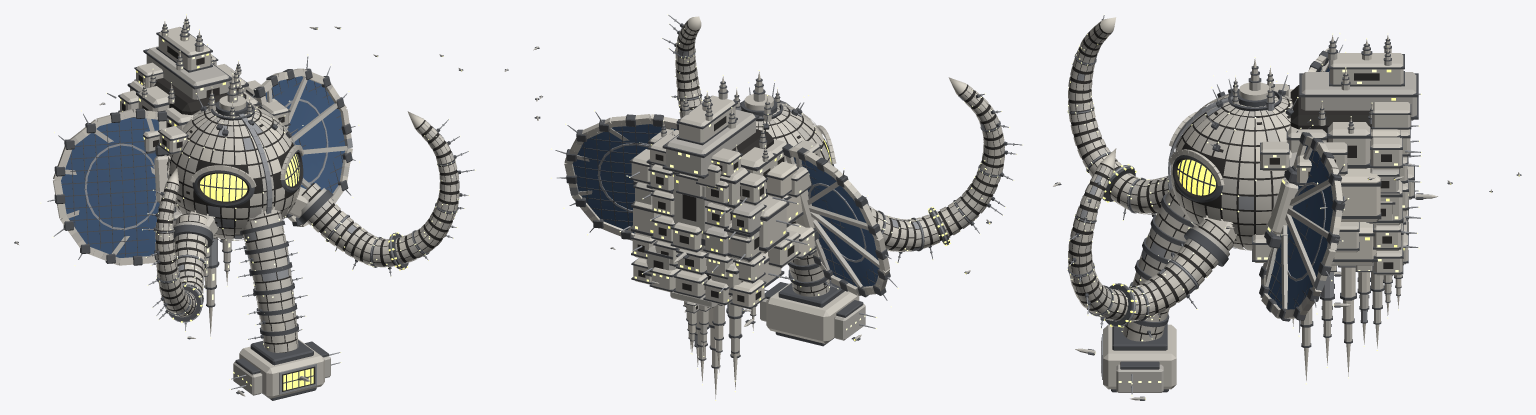
The picture shows the model from 3 angles, left to right: view 1: azimuth 30°, elevation 25°; view 2: azimuth 150°, elevation 25°; view 3: azimuth 270°, elevation 25°; orthographic projection. The views are drawn at different scales.
Parts seen in each view (by area): view 1: DC_ears, DC_head, DC_tusks, DC_body, DC_trunk; view 2: DC_body, DC_ears, DC_tusks, DC_trunk, DC_head; view 3: DC_body, DC_tusks, DC_head, DC_ears, DC_trunk, DC_ships.
Boxes of the visible parts, x1,y1,x2,y2 form: DC_ears: [40, 54, 360, 265]; DC_head: [165, 86, 308, 240]; DC_tusks: [142, 111, 475, 331]; DC_body: [106, 14, 290, 338]; DC_trunk: [229, 206, 341, 400]; DC_body: [619, 69, 821, 400]; DC_ears: [550, 110, 898, 307]; DC_tusks: [661, 14, 1023, 263]; DC_trunk: [760, 254, 877, 346]; DC_head: [727, 80, 836, 226]; DC_body: [1232, 33, 1422, 384]; DC_tusks: [1067, 14, 1233, 331]; DC_head: [1168, 71, 1313, 250]; DC_ears: [1259, 32, 1349, 336]; DC_trunk: [1101, 184, 1196, 396]; DC_ships: [1053, 172, 1521, 400].
Bounding box in the file's own units: 4383 × 2962 × 3565.
